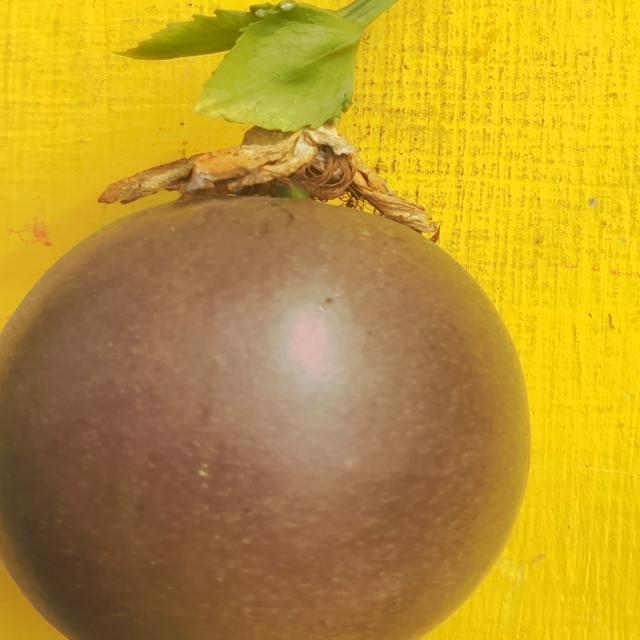Estado-4: (0, 5, 533, 640)
